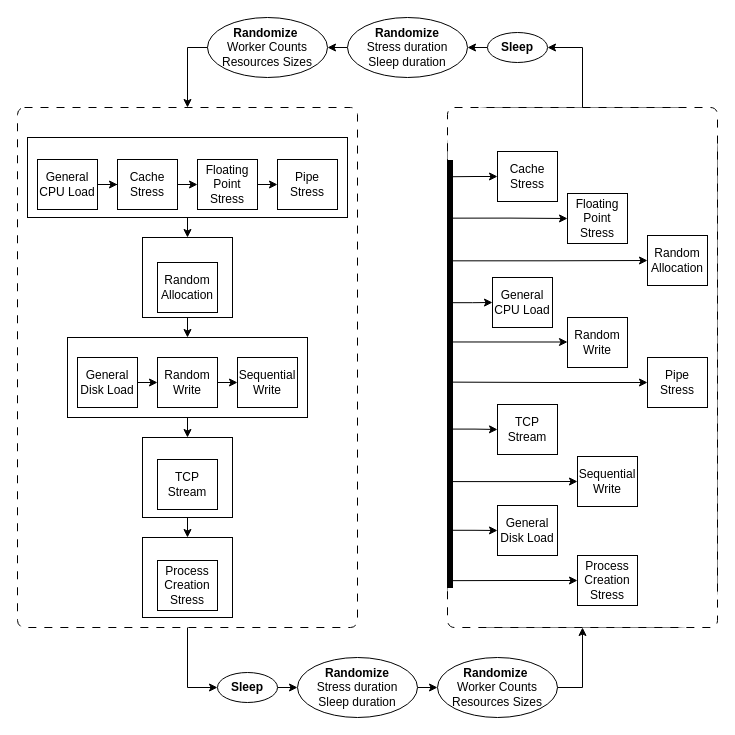
Some shapes in this 735 by 735 pixel diagram are drawn without their labels. Here are the shapes that lost their labels. From the top down, the box of each, then its label:
(26, 136, 348, 218): CPU Tests
(142, 236, 232, 318): Memory Tests
(16, 106, 358, 628): Serial Tests
(66, 336, 308, 418): Disk I/O Tests
(446, 106, 718, 628): Parallel Tests
(142, 436, 232, 518): Network Tests
(142, 536, 232, 618): System Tests
